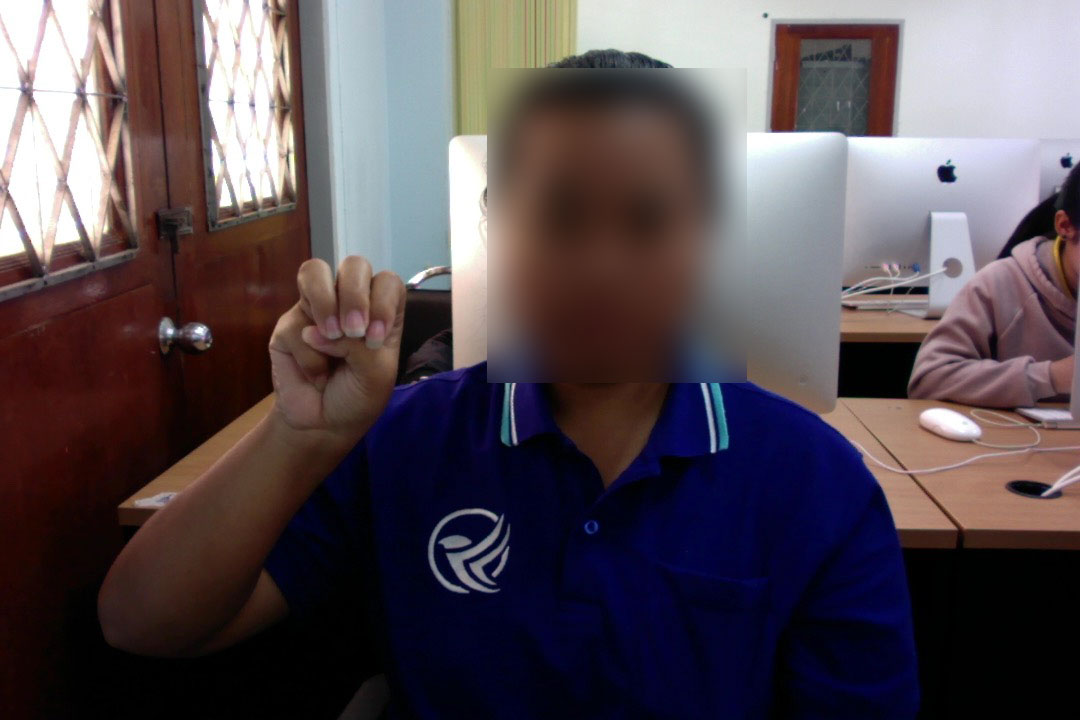mor: (259, 244, 412, 449)
